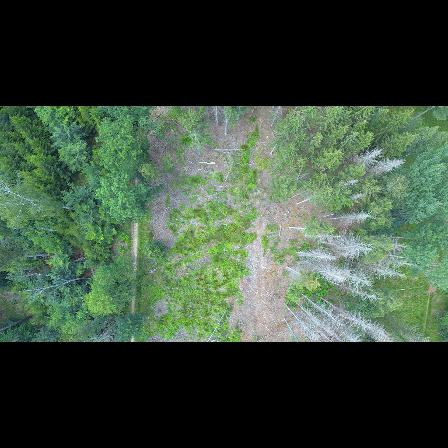Dead: (322, 298, 385, 333), (293, 296, 335, 335), (300, 294, 340, 323), (282, 301, 313, 336), (325, 265, 371, 287), (313, 238, 371, 253), (355, 260, 406, 276), (350, 147, 385, 170), (364, 159, 407, 177), (313, 265, 345, 285), (293, 252, 340, 261), (318, 214, 381, 220)
